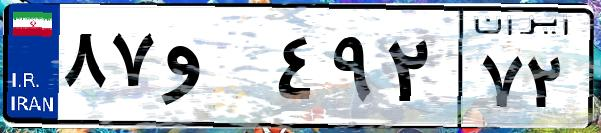2: (385, 28, 445, 110), (525, 38, 570, 115)
4: (270, 28, 330, 110)
7: (475, 38, 525, 113), (110, 28, 158, 98)
8: (57, 26, 110, 100)
9: (330, 28, 385, 110)
و: (158, 20, 270, 120)
